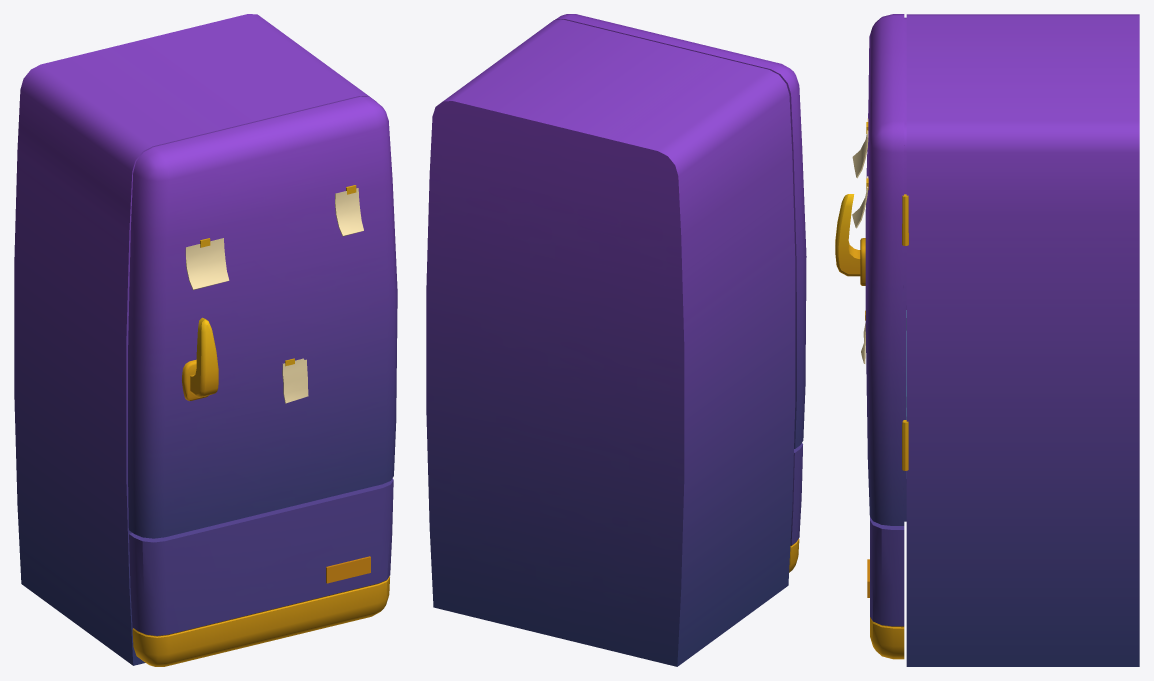
The model's file is PurpleFridge.fbx.
The picture shows the model from 3 angles, left to right: view 1: azimuth 30°, elevation 25°; view 2: azimuth 150°, elevation 25°; view 3: azimuth 270°, elevation 25°; orthographic projection. The views are drawn at different scales.
Parts seen in each view (by area): view 1: Fridge, FridgeDoor; view 2: Fridge, FridgeDoor; view 3: Fridge, FridgeDoor.
Boxes of the visible parts, <box> form: Fridge: <box>14,14,393,666</box>; FridgeDoor: <box>128,96,397,538</box>; Fridge: <box>426,19,802,666</box>; FridgeDoor: <box>555,14,806,448</box>; Fridge: <box>867,14,1139,666</box>; FridgeDoor: <box>835,14,906,525</box>.
Bounding box in the file's own units: 115 × 216 × 111.
